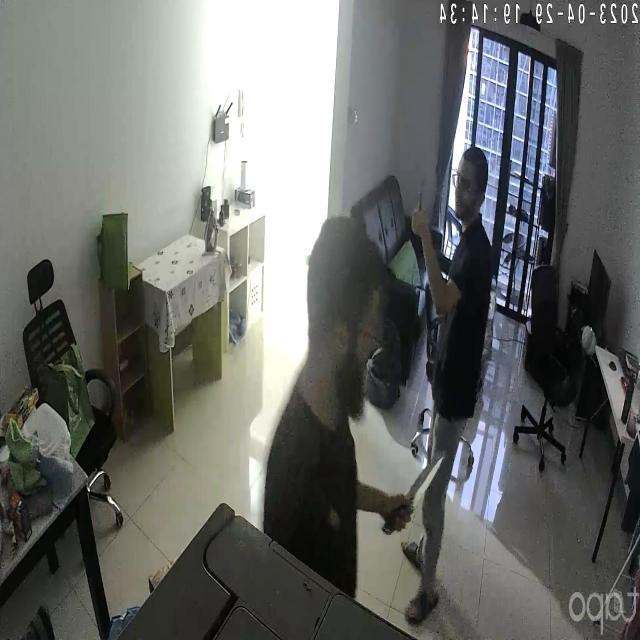Knife: (406, 438, 453, 542)
